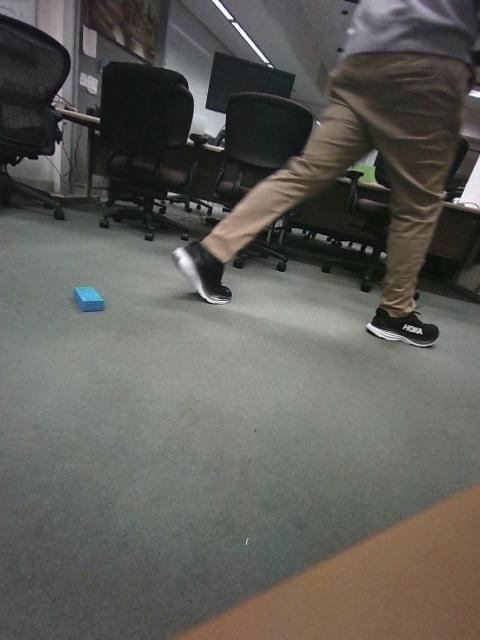block: (237, 476, 341, 588)
